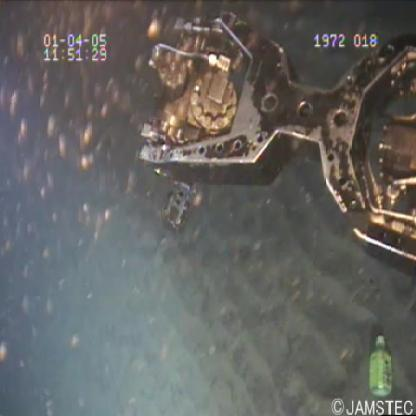Rov: (133, 11, 415, 270)
Rác: (368, 332, 396, 402)
